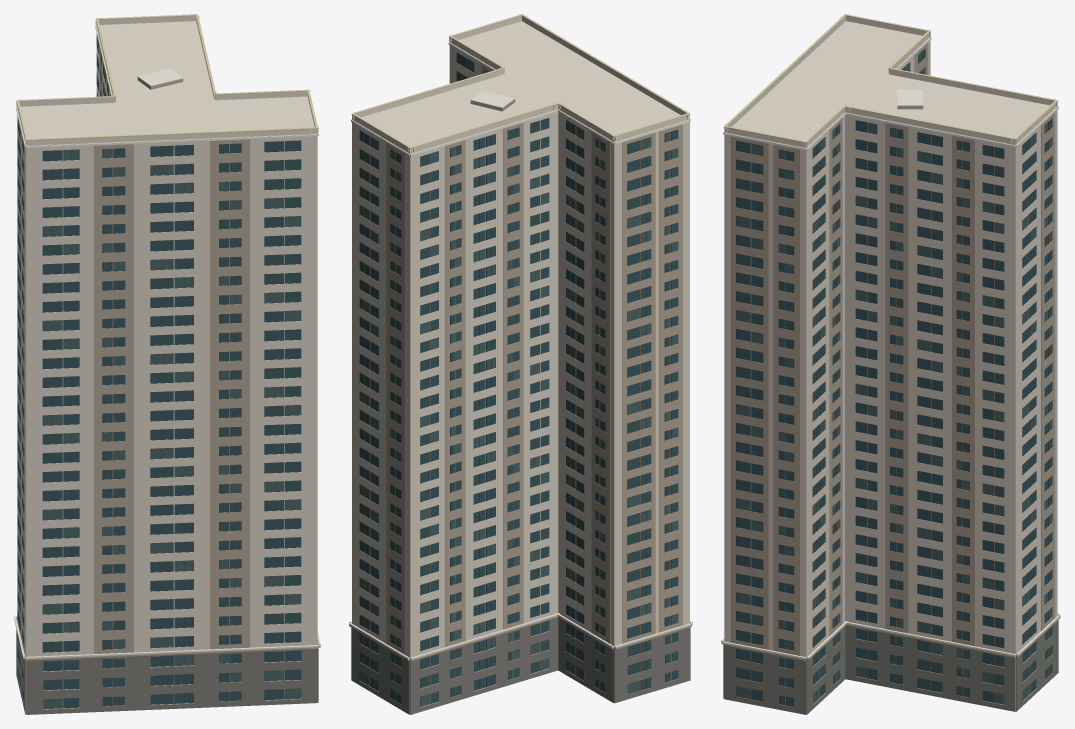
The model's file is bespoke-raemian-prestige-119.glb.
3 renders of one model, left to right at view 1: azimuth 30°, elevation 25°; view 2: azimuth 150°, elevation 25°; view 3: azimuth 270°, elevation 25°, orthographic.
Visible parts, largest first — view 1: Prestige_warm_ivory_rendered_wall005, Prestige_recessed_blue_green_window005, Prestige_wide_taupe_pilasters005, Prestige_dark_bronze_thin_window_frame005, Prestige_dark_brown_grey_stone_base005, Prestige_muted_green_window_pair005, Prestige_pale_limestone_band005, Prestige_cream_gold_crown_coping005; view 2: Prestige_warm_ivory_rendered_wall005, Prestige_wide_taupe_pilasters005, Prestige_recessed_blue_green_window005, Prestige_dark_bronze_thin_window_frame005, Prestige_dark_brown_grey_stone_base005, Prestige_muted_green_window_pair005, Prestige_pale_limestone_band005, Prestige_cream_gold_crown_coping005; view 3: Prestige_warm_ivory_rendered_wall005, Prestige_wide_taupe_pilasters005, Prestige_recessed_blue_green_window005, Prestige_dark_bronze_thin_window_frame005, Prestige_dark_brown_grey_stone_base005, Prestige_muted_green_window_pair005, Prestige_pale_limestone_band005, Prestige_cream_gold_crown_coping005.
Boxes of the visible parts, <box> form: Prestige_warm_ivory_rendered_wall005: <box>17,16,317,713</box>; Prestige_recessed_blue_green_window005: <box>17,36,300,708</box>; Prestige_wide_taupe_pilasters005: <box>14,48,320,706</box>; Prestige_dark_bronze_thin_window_frame005: <box>17,35,301,708</box>; Prestige_dark_brown_grey_stone_base005: <box>16,618,318,714</box>; Prestige_muted_green_window_pair005: <box>17,42,300,708</box>; Prestige_pale_limestone_band005: <box>14,18,320,658</box>; Prestige_cream_gold_crown_coping005: <box>16,14,318,140</box>; Prestige_warm_ivory_rendered_wall005: <box>352,16,689,714</box>; Prestige_wide_taupe_pilasters005: <box>349,64,692,704</box>; Prestige_recessed_blue_green_window005: <box>360,53,677,703</box>; Prestige_dark_bronze_thin_window_frame005: <box>359,52,678,706</box>; Prestige_dark_brown_grey_stone_base005: <box>351,617,690,714</box>; Prestige_muted_green_window_pair005: <box>360,59,677,706</box>; Prestige_pale_limestone_band005: <box>349,37,692,659</box>; Prestige_cream_gold_crown_coping005: <box>351,14,690,148</box>; Prestige_warm_ivory_rendered_wall005: <box>724,16,1057,711</box>; Prestige_wide_taupe_pilasters005: <box>721,42,1060,707</box>; Prestige_recessed_blue_green_window005: <box>736,49,1052,706</box>; Prestige_dark_bronze_thin_window_frame005: <box>736,48,1052,706</box>; Prestige_dark_brown_grey_stone_base005: <box>723,620,1058,714</box>; Prestige_muted_green_window_pair005: <box>736,53,1052,704</box>; Prestige_pale_limestone_band005: <box>721,32,1060,659</box>; Prestige_cream_gold_crown_coping005: <box>723,14,1058,143</box>.
Size of the model in its own units: 41.53 by 84.9 by 45.66.
